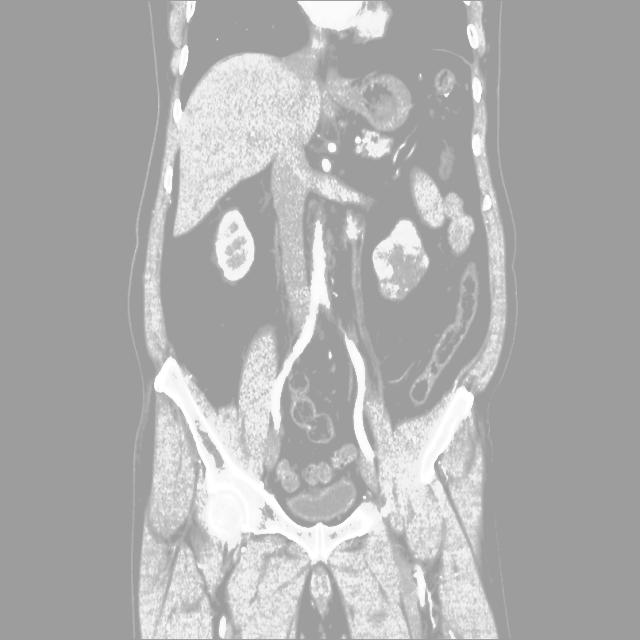TUMOR: (202, 212, 525, 303)
